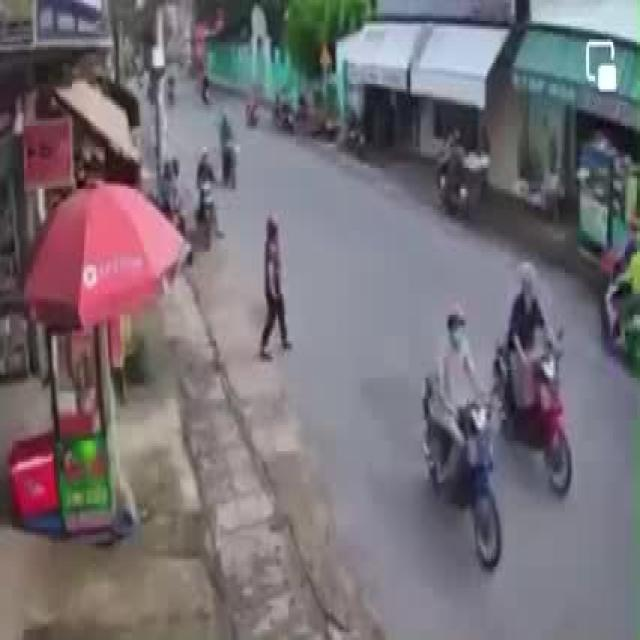normal: (407, 239, 584, 576), (183, 110, 246, 250)
